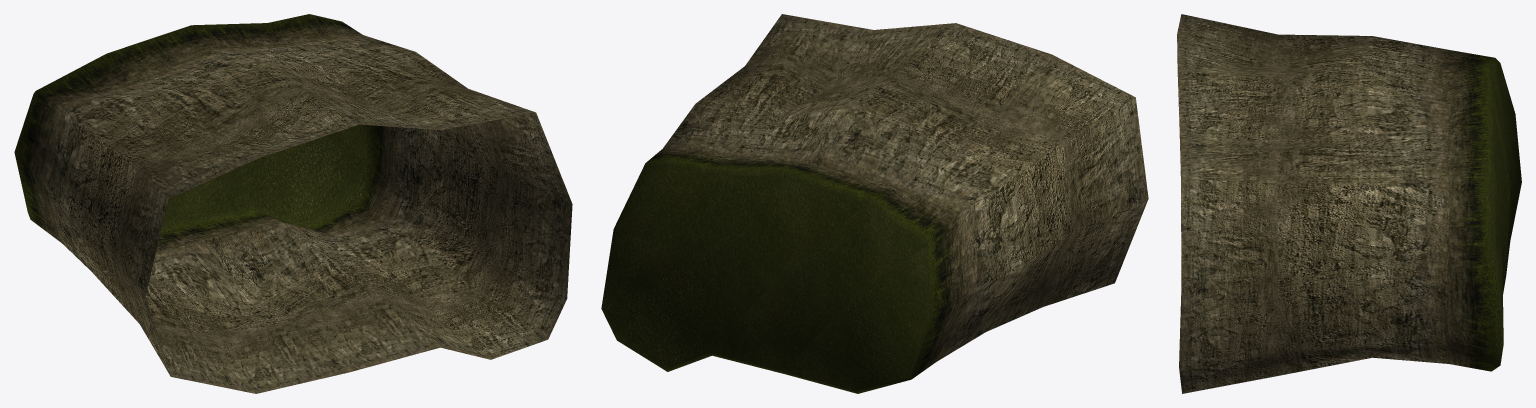
File: MEP_Edge_01_d.fbx
3 views of the same model, side by side, from view 1: azimuth 30°, elevation 25°; view 2: azimuth 150°, elevation 25°; view 3: azimuth 270°, elevation 25° (orthographic). The views are drawn at different scales.
Parts seen in each view (by area): view 1: MEP_Edge_01_d; view 2: MEP_Edge_01_d; view 3: MEP_Edge_01_d.
Part boxes in pixels (x1,y1,x2,y2): MEP_Edge_01_d: (14, 14, 572, 393); MEP_Edge_01_d: (601, 14, 1148, 393); MEP_Edge_01_d: (1177, 14, 1521, 393).
Bounding box in the file's own units: 40.37 × 24.78 × 31.54.
1 material, 1 textured.
